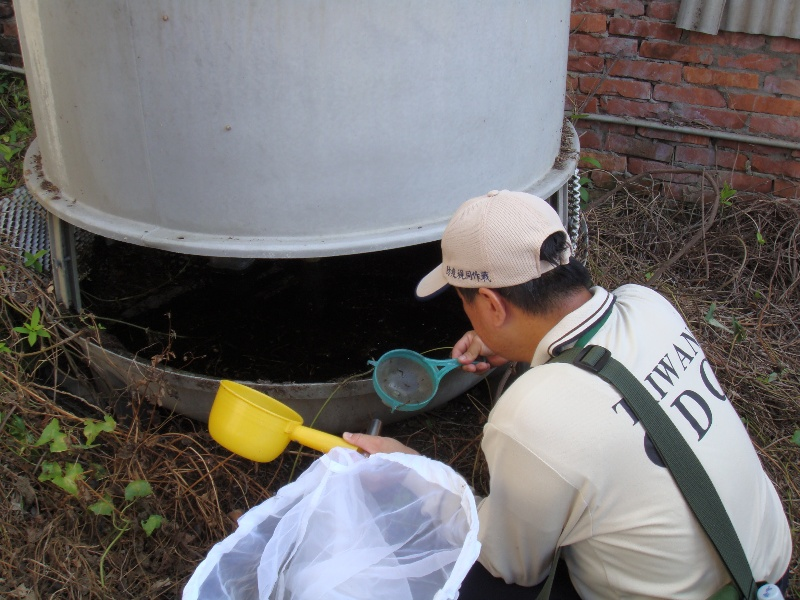water_tower: (10, 1, 581, 426)
